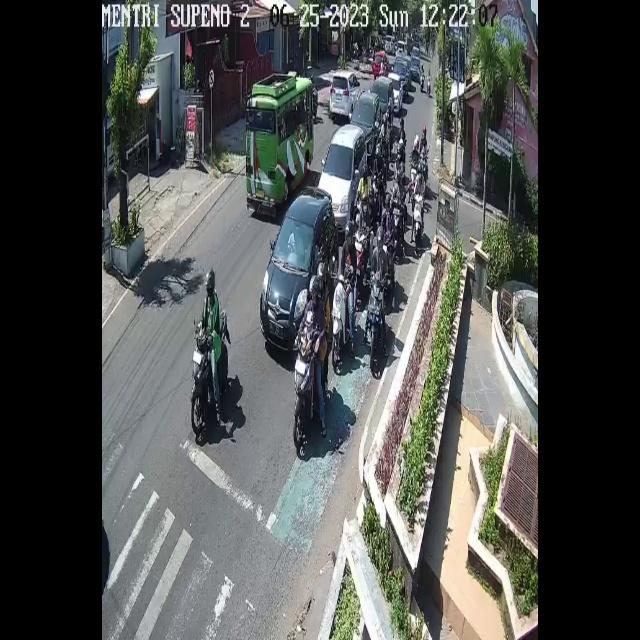bus: (190, 310, 228, 432), (293, 336, 315, 447), (332, 273, 351, 368), (366, 280, 384, 372), (354, 231, 367, 294), (392, 196, 405, 258), (412, 193, 423, 252), (384, 230, 394, 288), (355, 200, 364, 226), (371, 171, 382, 191), (411, 161, 419, 182), (394, 159, 404, 175), (426, 76, 432, 97), (420, 153, 427, 169), (420, 73, 424, 93)
car: (248, 73, 314, 206)
motorcycle: (260, 185, 339, 353), (318, 124, 368, 233), (350, 90, 380, 159), (371, 76, 395, 139), (329, 69, 362, 114), (389, 70, 405, 108), (374, 51, 389, 76), (410, 57, 420, 80), (396, 41, 408, 59)
